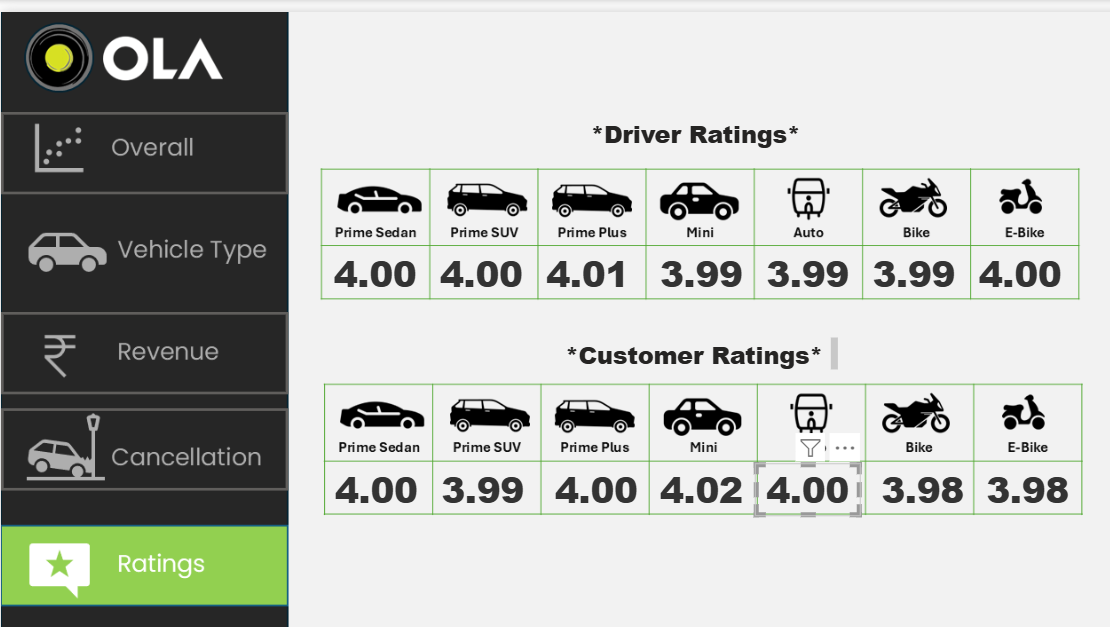

What the dashboard file says about the page in this screenshot:
{"tool":"powerbi","page":{"name":"Ratings","canvas":[1280,720],"ordinal":4},"visuals":[{"type":"actionButton","box":[0,337.5,323.7,92.8],"z":0},{"type":"actionButton","box":[0,218.4,324.5,92.9],"z":1000},{"type":"actionButton","box":[0,112.5,323.7,92.8],"z":2000},{"type":"actionButton","box":[0,446.1,323.7,92.8],"z":3000},{"type":"actionButton","box":[0,339.5,323.7,92.8],"z":4000},{"type":"actionButton","box":[0,337.5,323.7,92.8],"z":5000},{"type":"actionButton","box":[0,339.5,323.7,92.8],"z":6000},{"type":"card","fields":{"Values":["Avg(July.Driver_Ratings)"]},"box":[362.3,264.8,119.4,59],"z":7000},{"type":"card","fields":{"Values":["Avg(July.Driver_Ratings)"]},"box":[481.6,264.8,119.4,59],"z":8000},{"type":"card","fields":{"Values":["Avg(July.Driver_Ratings)"]},"box":[601,264.8,119.4,59],"z":9000},{"type":"card","fields":{"Values":["Avg(July.Driver_Ratings)"]},"box":[730,264.8,119.4,59],"z":10000},{"type":"card","fields":{"Values":["Avg(July.Driver_Ratings)"]},"box":[849.4,264.8,119.4,59],"z":11000},{"type":"card","fields":{"Values":["Avg(July.Driver_Ratings)"]},"box":[968.8,264.8,119.4,59],"z":12000},{"type":"card","fields":{"Values":["Avg(July.Driver_Ratings)"]},"box":[1088.2,264.8,119.4,59],"z":13000},{"type":"textbox","box":[631.2,112.5,274.4,50.8],"z":14000},{"type":"card","fields":{"Values":["Avg(July.Customer_Rating)"]},"box":[363.6,509.1,119.4,59],"z":15000},{"type":"card","fields":{"Values":["Avg(July.Customer_Rating)"]},"box":[483,509.1,119.4,59],"z":16000},{"type":"card","fields":{"Values":["Avg(July.Customer_Rating)"]},"box":[610.6,509.1,119.4,59],"z":17000},{"type":"card","fields":{"Values":["Avg(July.Customer_Rating)"]},"box":[730,509.1,119.4,59],"z":18000},{"type":"card","fields":{"Values":["Avg(July.Customer_Rating)"]},"box":[849.4,509.1,119.4,59],"z":19000},{"type":"card","fields":{"Values":["Avg(July.Customer_Rating)"]},"box":[978.4,509.1,119.4,59],"z":20000},{"type":"card","fields":{"Values":["Avg(July.Customer_Rating)"]},"box":[1097.8,509.1,119.4,59],"z":21000},{"type":"textbox","box":[631.2,362.3,317,46.7],"z":22000}]}

Visuals, with their boxes on the page's 1280x720 design canvas (x1, y1, x2, y2). These are canvas units, not pixel positions in the 1110x627 screenshot, which may show the page scaled, cropped or inside an application window:
actionButton: Rect(0, 338, 324, 430)
actionButton: Rect(0, 218, 324, 311)
actionButton: Rect(0, 112, 324, 205)
actionButton: Rect(0, 446, 324, 539)
actionButton: Rect(0, 340, 324, 432)
actionButton: Rect(0, 338, 324, 430)
actionButton: Rect(0, 340, 324, 432)
card - Avg(July.Driver_Ratings): Rect(362, 265, 482, 324)
card - Avg(July.Driver_Ratings): Rect(482, 265, 601, 324)
card - Avg(July.Driver_Ratings): Rect(601, 265, 720, 324)
card - Avg(July.Driver_Ratings): Rect(730, 265, 849, 324)
card - Avg(July.Driver_Ratings): Rect(849, 265, 969, 324)
card - Avg(July.Driver_Ratings): Rect(969, 265, 1088, 324)
card - Avg(July.Driver_Ratings): Rect(1088, 265, 1208, 324)
textbox: Rect(631, 112, 906, 163)
card - Avg(July.Customer_Rating): Rect(364, 509, 483, 568)
card - Avg(July.Customer_Rating): Rect(483, 509, 602, 568)
card - Avg(July.Customer_Rating): Rect(611, 509, 730, 568)
card - Avg(July.Customer_Rating): Rect(730, 509, 849, 568)
card - Avg(July.Customer_Rating): Rect(849, 509, 969, 568)
card - Avg(July.Customer_Rating): Rect(978, 509, 1098, 568)
card - Avg(July.Customer_Rating): Rect(1098, 509, 1217, 568)
textbox: Rect(631, 362, 948, 409)
